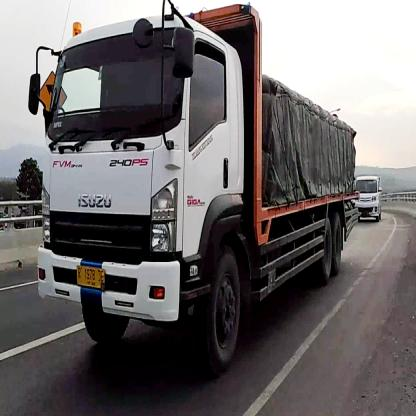truck: (29, 4, 356, 366)
